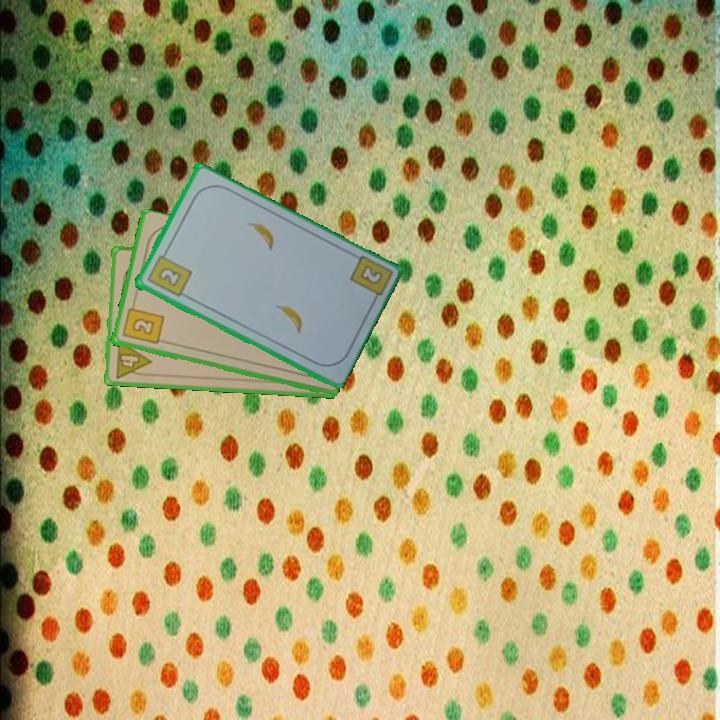2b: (143, 247, 194, 300), (119, 299, 166, 347), (356, 262, 385, 287)
4p: (111, 336, 154, 381)
